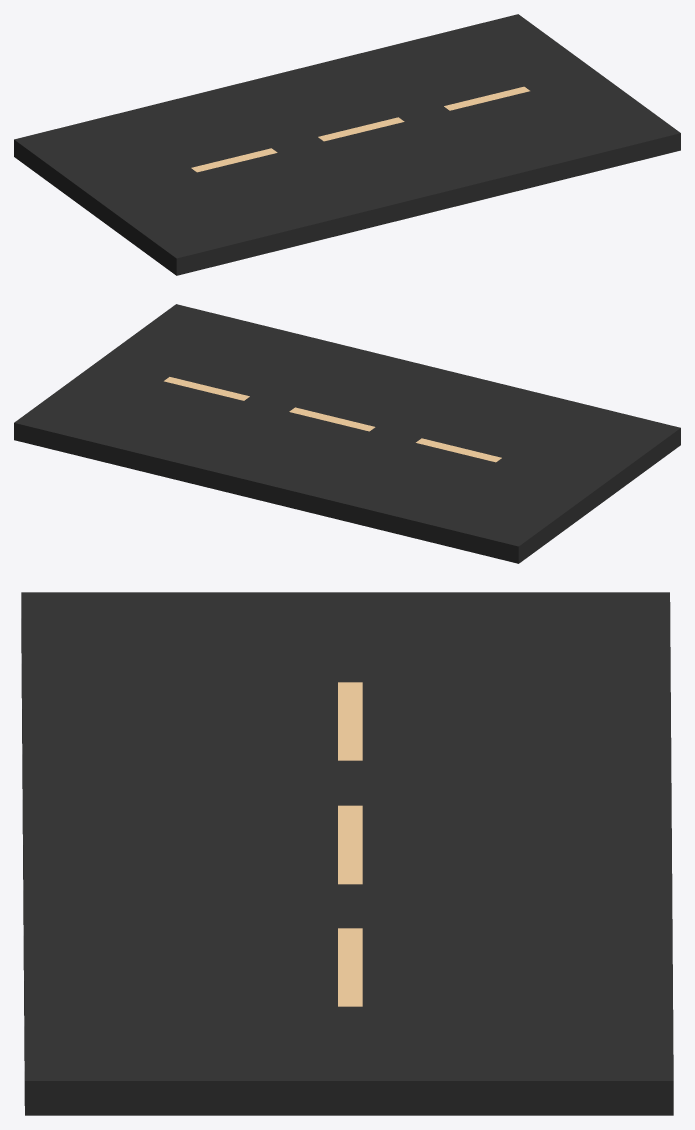
The model's file is aRoad.glb.
3 renders of one model, top to bottom at view 1: azimuth 30°, elevation 25°; view 2: azimuth 150°, elevation 25°; view 3: azimuth 270°, elevation 25°, orthographic. The views are drawn at different scales.
Parts seen in each view (by area): view 1: ROAD_Lines_12; view 2: ROAD_Lines_12; view 3: ROAD_Lines_12.
Part boxes in pixels (x1=…): ROAD_Lines_12: x1=14, y1=14, x2=680, y2=275; ROAD_Lines_12: x1=14, y1=304, x2=680, y2=563; ROAD_Lines_12: x1=21, y1=592, x2=673, y2=1115.
Size of the model in its own units: 5.37 by 0.2132 by 3.01.
